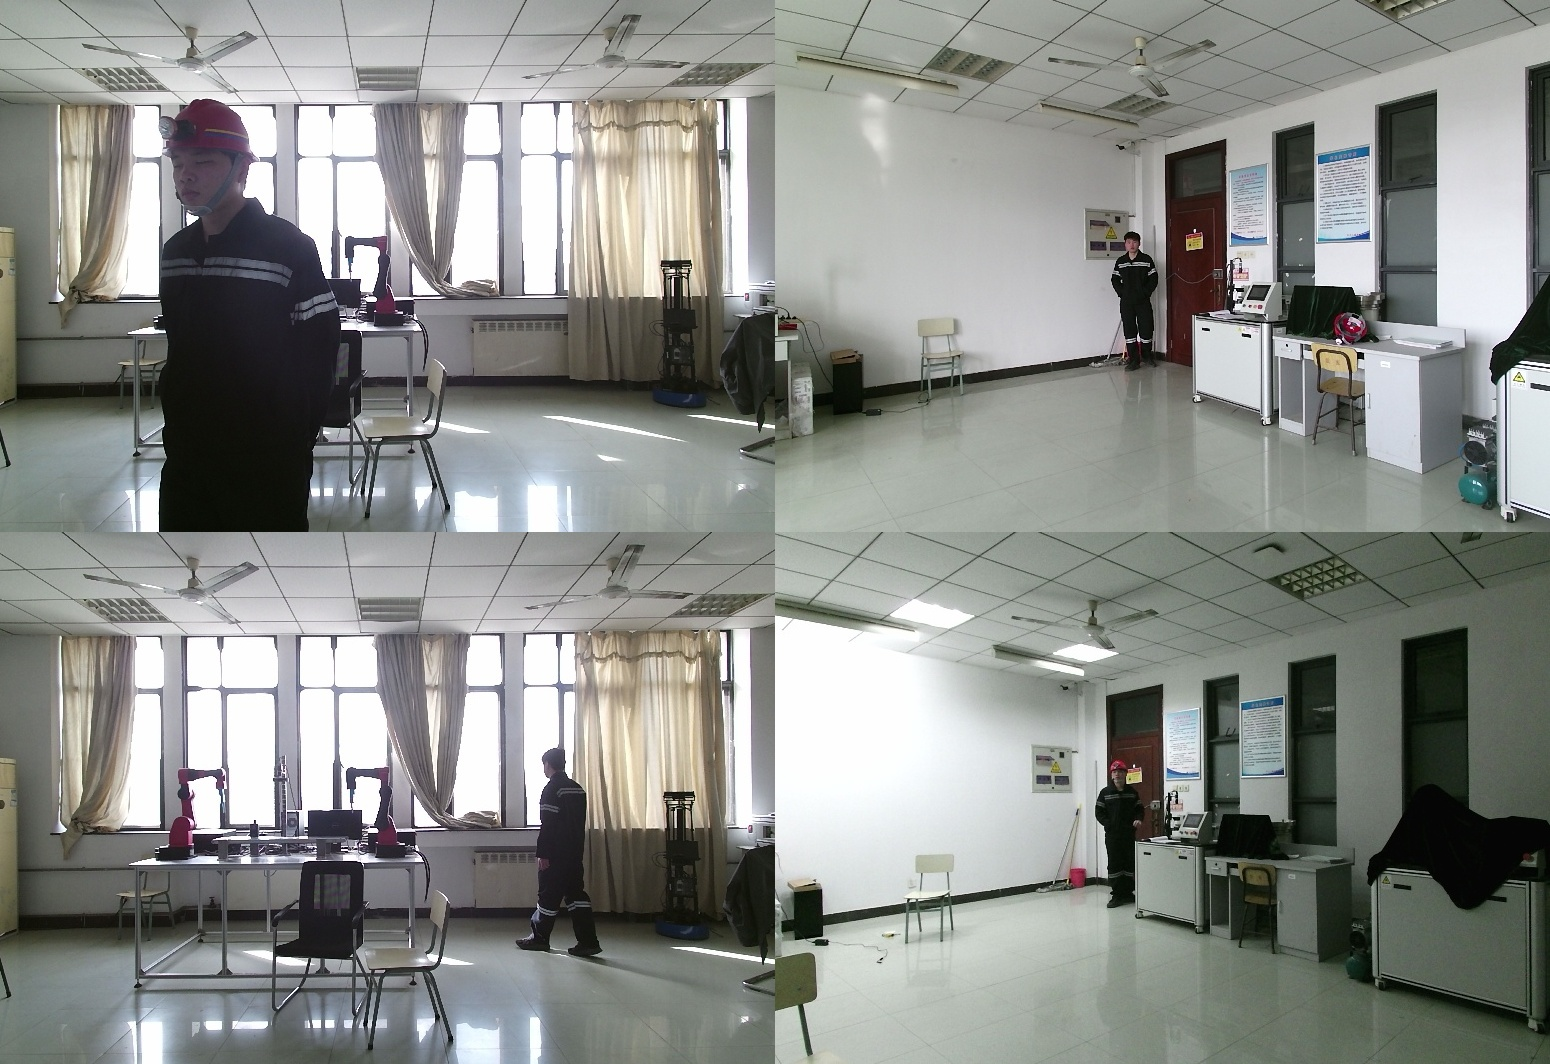person: (156, 98, 340, 532), (520, 749, 608, 965), (1095, 762, 1152, 908), (1111, 232, 1163, 374)
